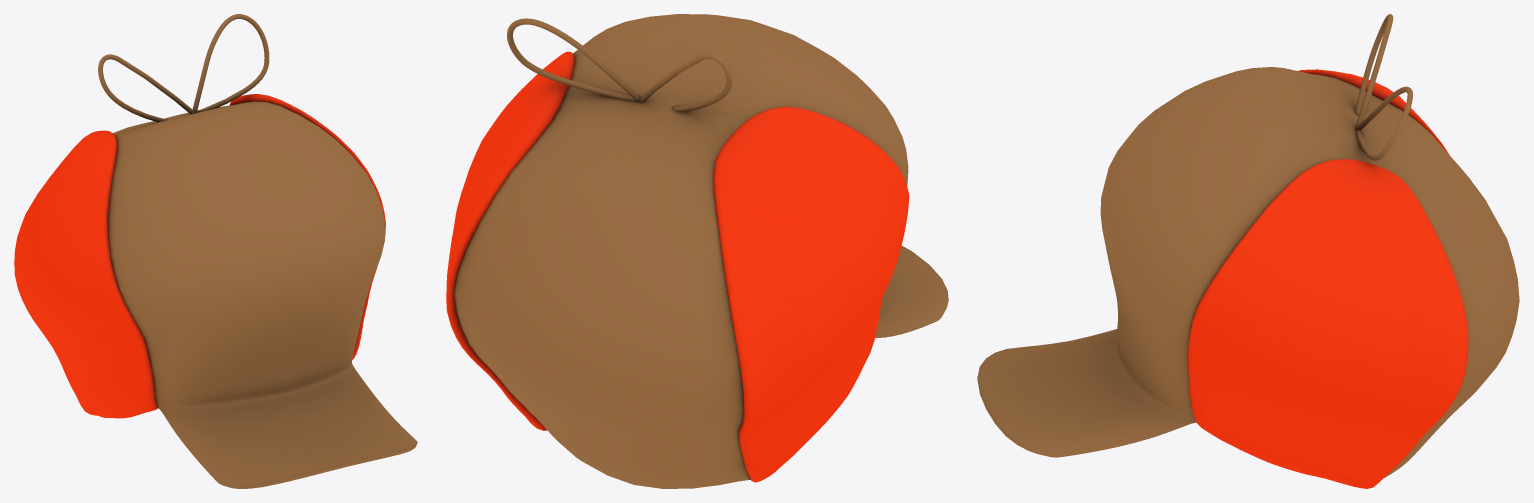
File: ElmerFudd.gltf
The picture shows the model from 3 angles, left to right: view 1: azimuth 30°, elevation 25°; view 2: azimuth 150°, elevation 25°; view 3: azimuth 270°, elevation 25°; orthographic projection. The views are drawn at different scales.
Parts seen in each view (by area): view 1: Fudd_Hat.001; view 2: Fudd_Hat.001; view 3: Fudd_Hat.001.
Part boxes in pixels (bbox=[...]): Fudd_Hat.001: bbox=[14, 14, 417, 488]; Fudd_Hat.001: bbox=[446, 14, 948, 488]; Fudd_Hat.001: bbox=[977, 14, 1519, 488].
Bounding box in the file's own units: 26.41 × 29.03 × 34.91.
1 material, 1 textured.
